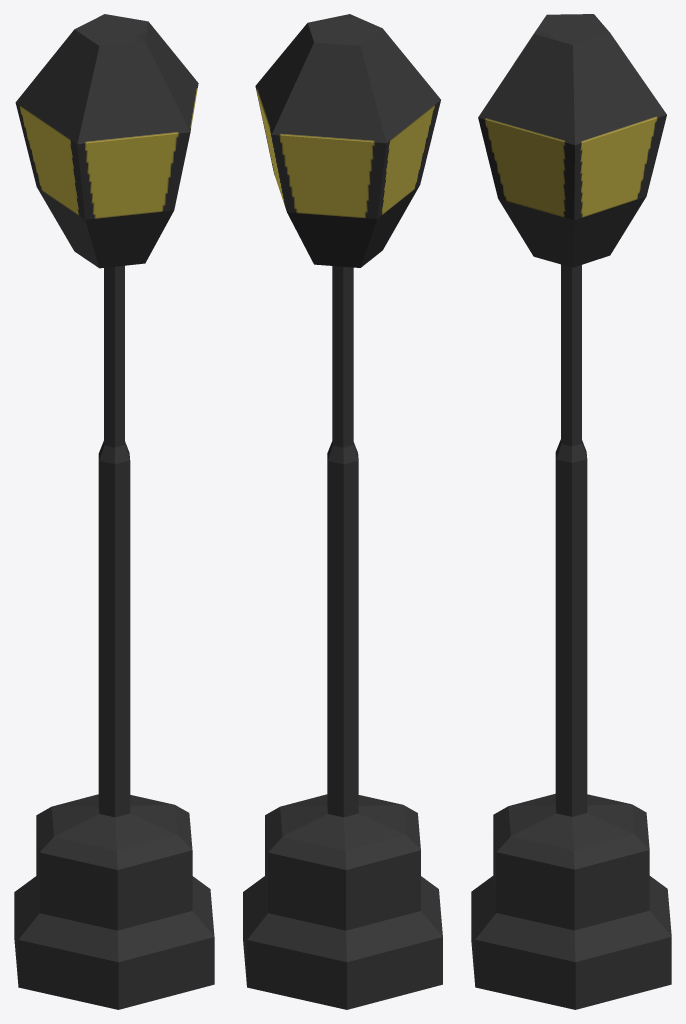
Rendered from poste.glb.
3 renders of one model, left to right at view 1: azimuth 30°, elevation 25°; view 2: azimuth 150°, elevation 25°; view 3: azimuth 270°, elevation 25°, orthographic.
Parts seen in each view (by area): view 1: poste grande_0; view 2: poste grande_0; view 3: poste grande_0.
Part boxes in pixels (<box>): poste grande_0: <box>14,14,214,1009</box>; poste grande_0: <box>243,14,442,1009</box>; poste grande_0: <box>471,14,671,1009</box>.
Size of the model in its own units: 1.64 by 7.44 by 1.45.
Materials: 1 (1 with a texture image).
